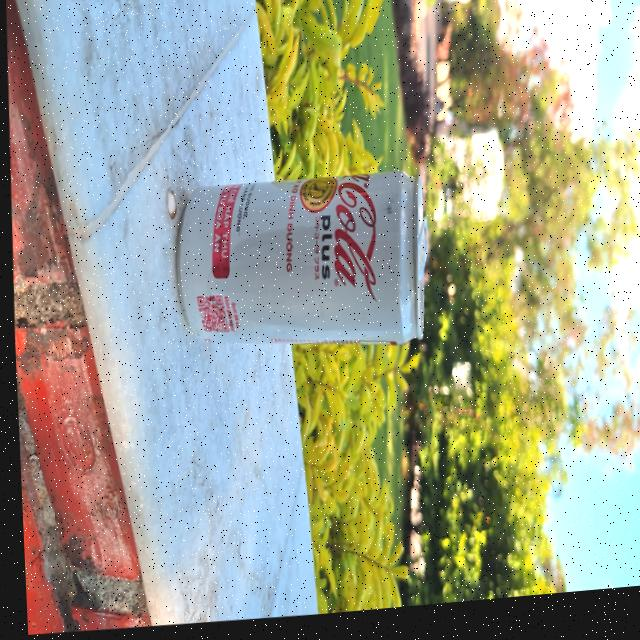Coca Cola Plus: (166, 154, 436, 368)
